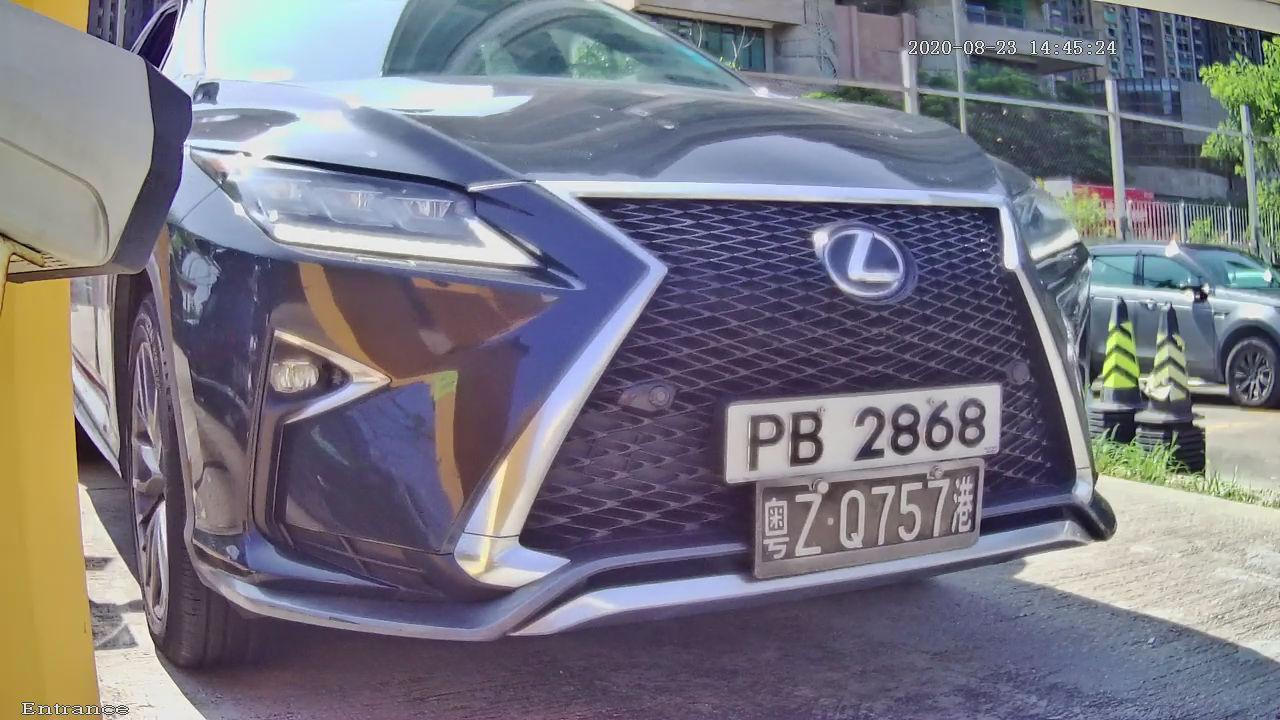Car: (1, 23, 1183, 708)
License Plate: (674, 352, 1046, 536)
